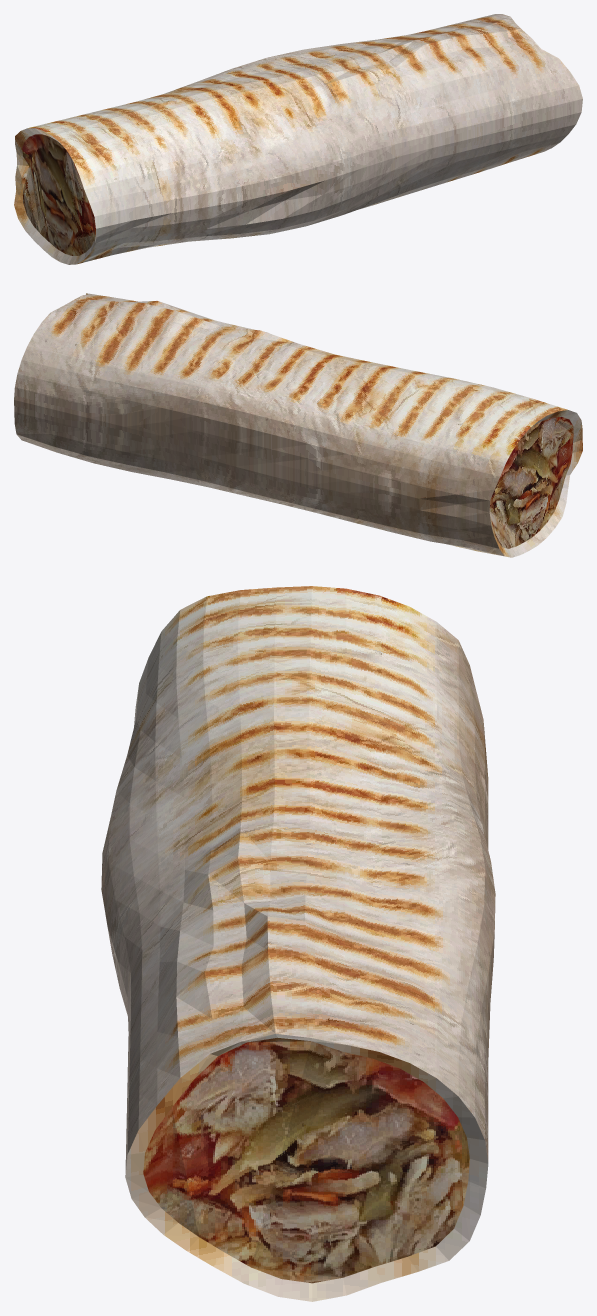
The model's file is shawarma.glb.
3 renders of one model, top to bottom at view 1: azimuth 30°, elevation 25°; view 2: azimuth 150°, elevation 25°; view 3: azimuth 270°, elevation 25°, orthographic. The views are drawn at different scales.
Visible parts, largest first — view 1: shaurma_0; view 2: shaurma_0; view 3: shaurma_0.
Part boxes in pixels (x1,y1,x2,y2): shaurma_0: (14,14,582,264); shaurma_0: (14,293,582,557); shaurma_0: (101,586,495,1301).
Size of the model in its own units: 15.9 by 4.33 by 5.53.
Materials: 1 (1 with a texture image).
